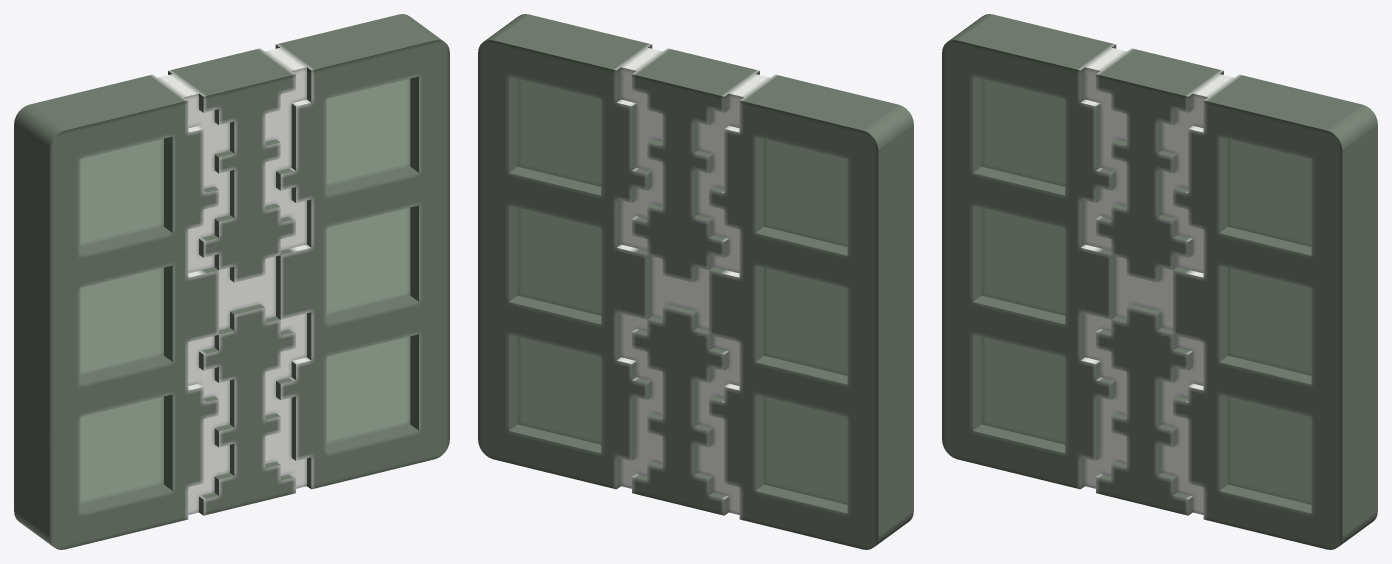
The model's file is P_NeutralPlayer_Export.fbx.
3 views of the same model, side by side, from view 1: azimuth 30°, elevation 25°; view 2: azimuth 150°, elevation 25°; view 3: azimuth 330°, elevation 25° (orthographic).
Parts seen in each view (by area): view 1: generated; view 2: generated; view 3: generated.
Part boxes in pixels (x1,y1,x2,y2): generated: (14,14,449,549); generated: (478,14,913,549); generated: (942,14,1377,549).
Bounding box in the file's own units: 260 × 260 × 40.
